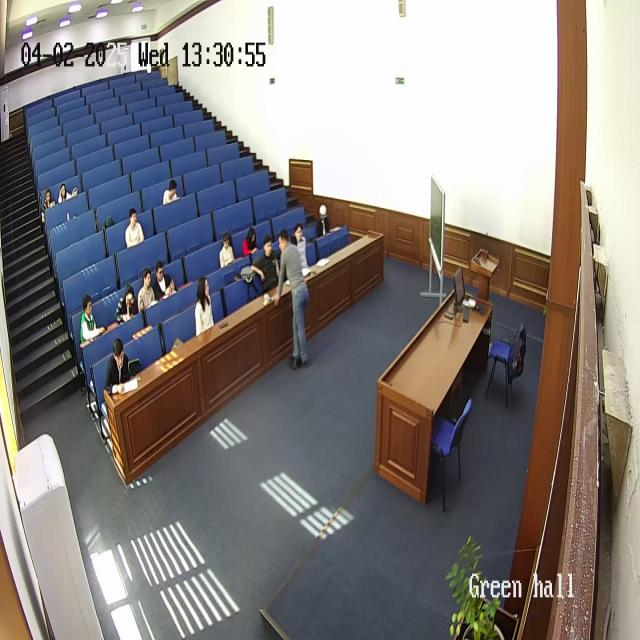person: (275, 228, 309, 367), (249, 236, 279, 295), (103, 337, 132, 397), (194, 276, 215, 337), (80, 295, 106, 344), (152, 260, 176, 302), (115, 284, 137, 326), (137, 268, 158, 312), (124, 209, 146, 248), (292, 223, 308, 269), (219, 234, 235, 268), (315, 204, 331, 238), (242, 227, 258, 257), (41, 190, 55, 222), (163, 178, 179, 205), (57, 182, 73, 205)
